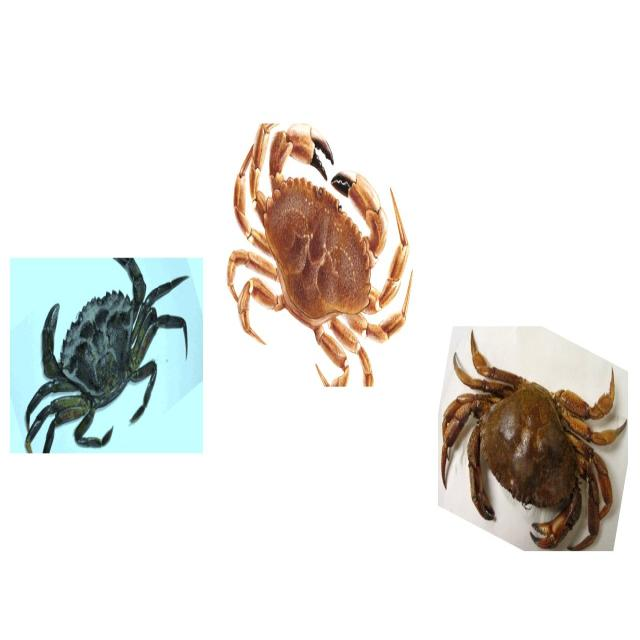egc: (8, 259, 202, 456)
jonah_crab: (231, 128, 414, 390)
rock_crab: (453, 327, 627, 550)
